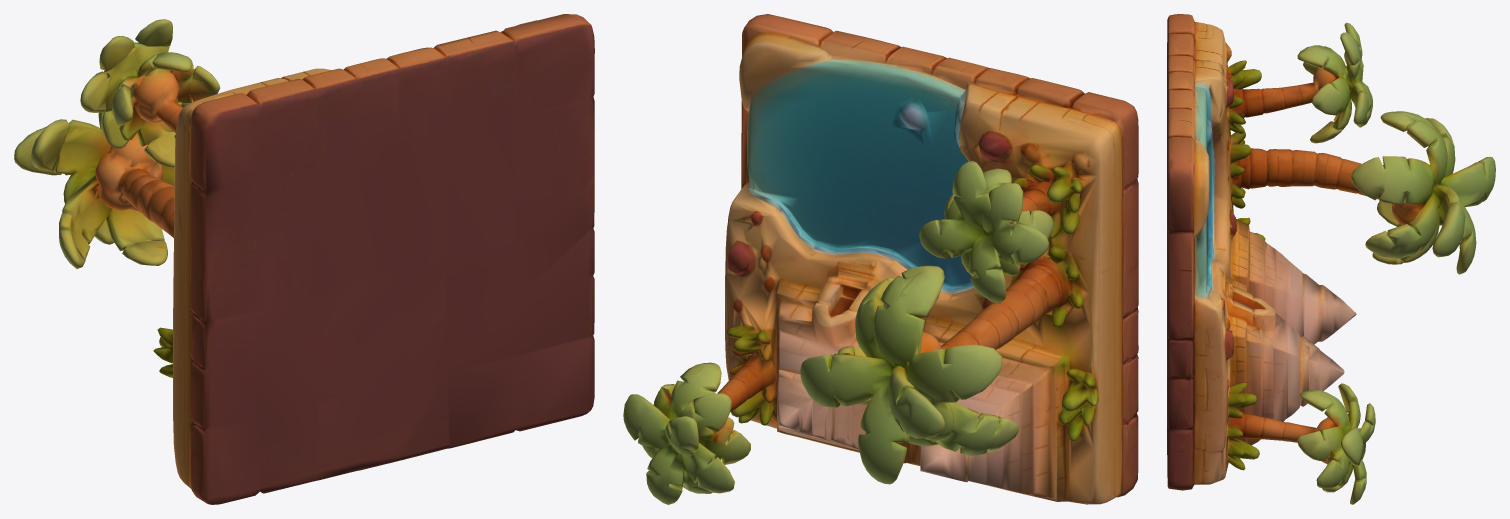
The picture shows the model from 3 angles, left to right: view 1: azimuth 30°, elevation 25°; view 2: azimuth 150°, elevation 25°; view 3: azimuth 270°, elevation 25°; orthographic projection. The views are drawn at different scales.
Visible parts, largest first — view 1: material; view 2: material; view 3: material.
Part boxes in pixels (left/top/right/bottom): material: left=14, top=14, right=594, bottom=504; material: left=623, top=14, right=1138, bottom=504; material: left=1167, top=14, right=1495, bottom=504.
Size of the model in its own units: 1 by 0.9266 by 0.7989.
Materials: 1 (1 with a texture image).
